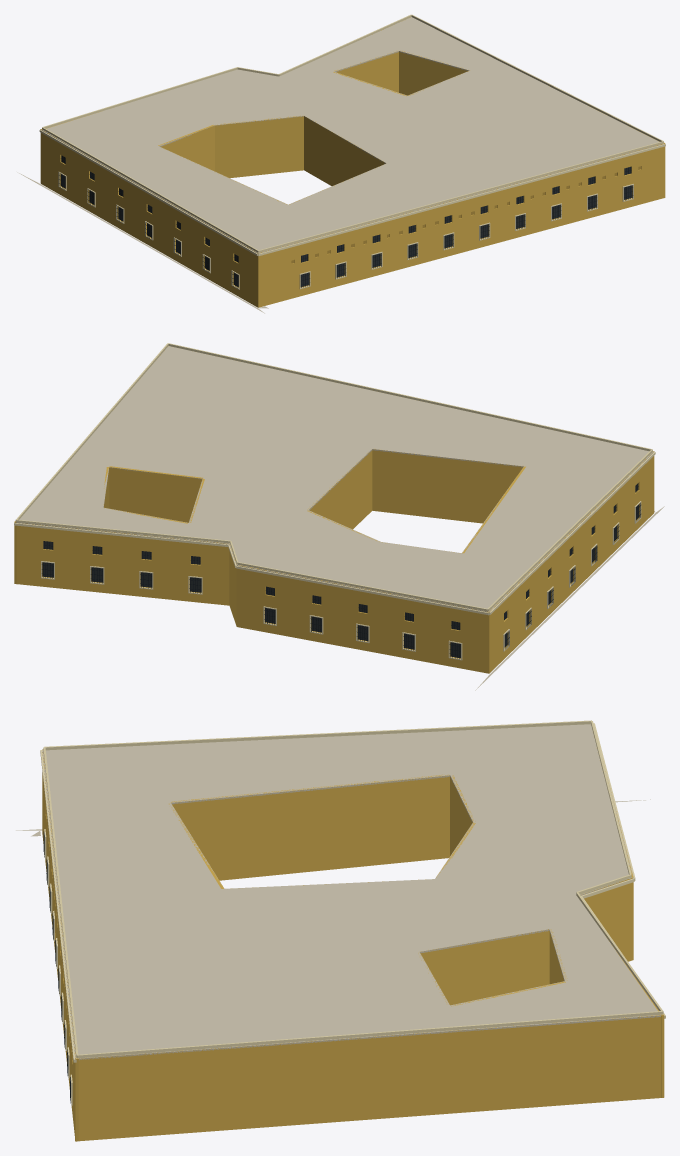
The picture shows the model from 3 angles, top to bottom: view 1: azimuth 30°, elevation 25°; view 2: azimuth 150°, elevation 25°; view 3: azimuth 270°, elevation 25°; orthographic projection. The views are drawn at different scales.
Parts seen in each view (by area): view 1: edificio; view 2: edificio; view 3: edificio.
Boxes of the visible parts, x1,y1,x2,y2 form: edificio: [17, 14, 665, 313]; edificio: [14, 343, 664, 690]; edificio: [16, 720, 665, 1141].
Size of the model in its own units: 54.93 by 6.41 by 44.34.
